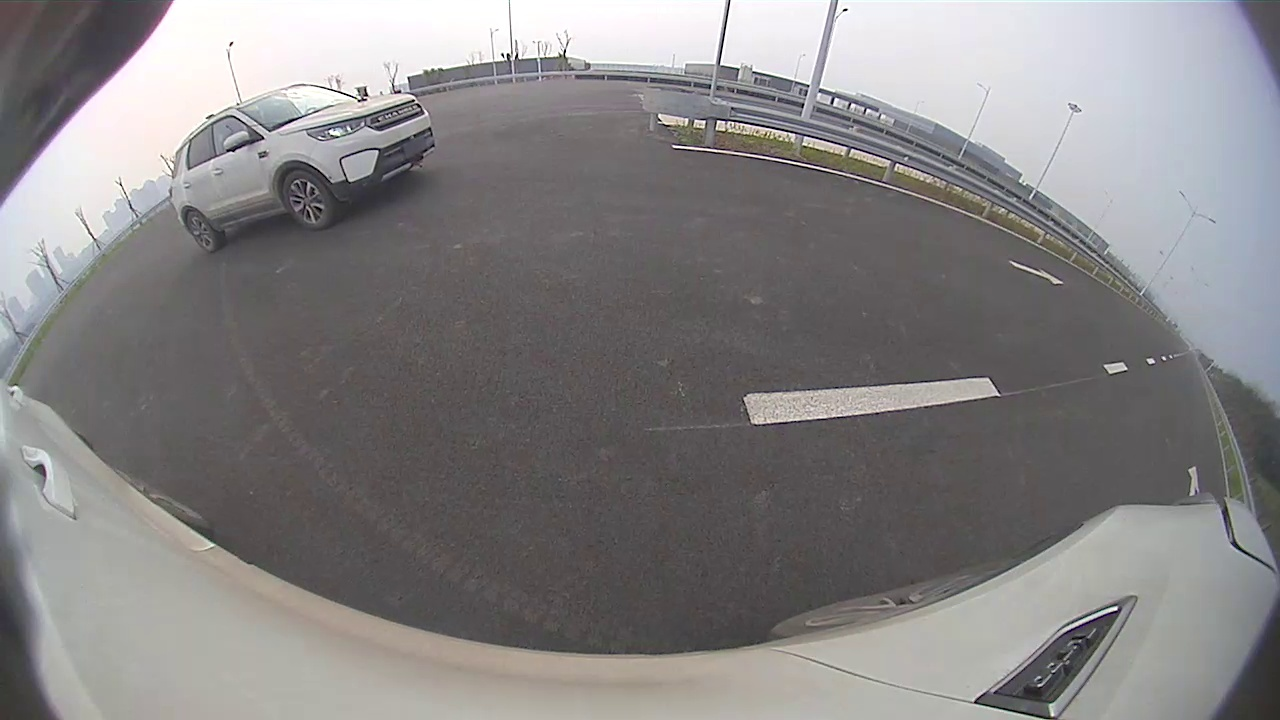car: (172, 84, 436, 253)
front: (282, 169, 333, 232)
rear: (184, 213, 218, 254)
